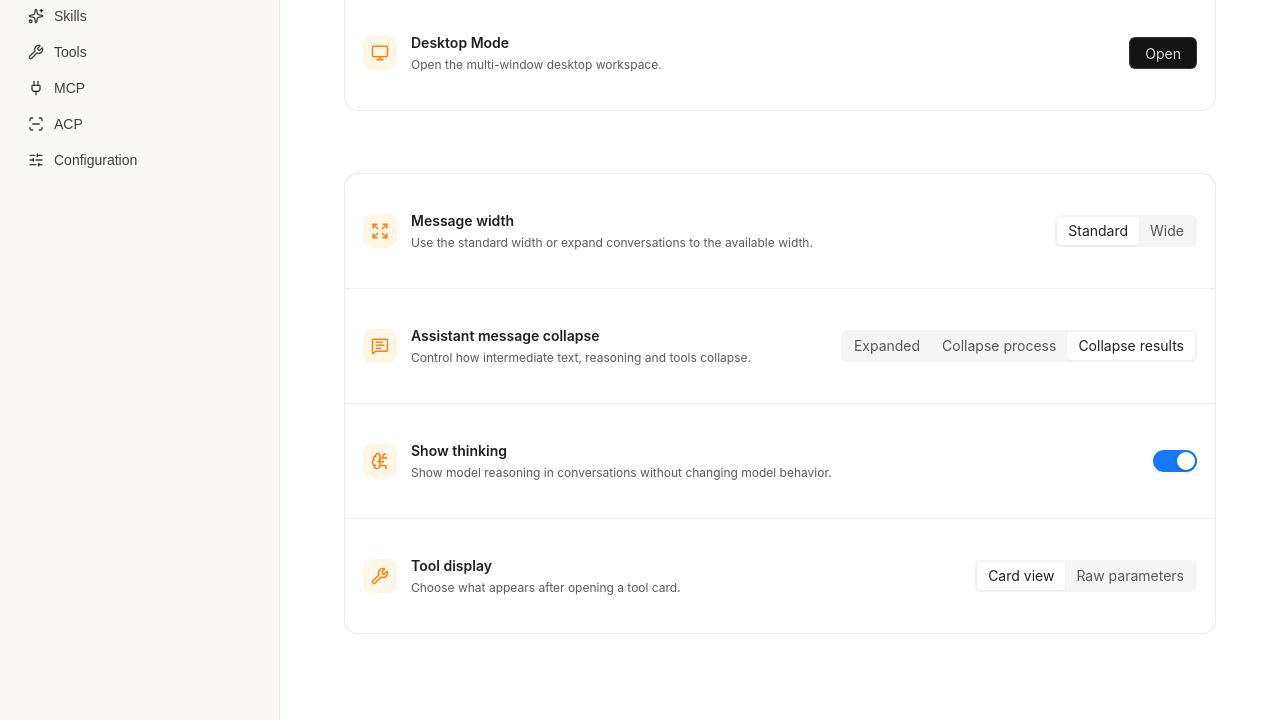
Test: SettingsCenter › expands agent pages and keeps their sidebar controls
This screenshot has width=1280, height=720.
(page scrolled)
Expected: the button "Skills" is shown, [16, 0, 261, 34]
Expected: the button "MCP" is shown, [16, 70, 261, 106]
Click the button "Tools" at (138, 52), box [16, 34, 261, 70]
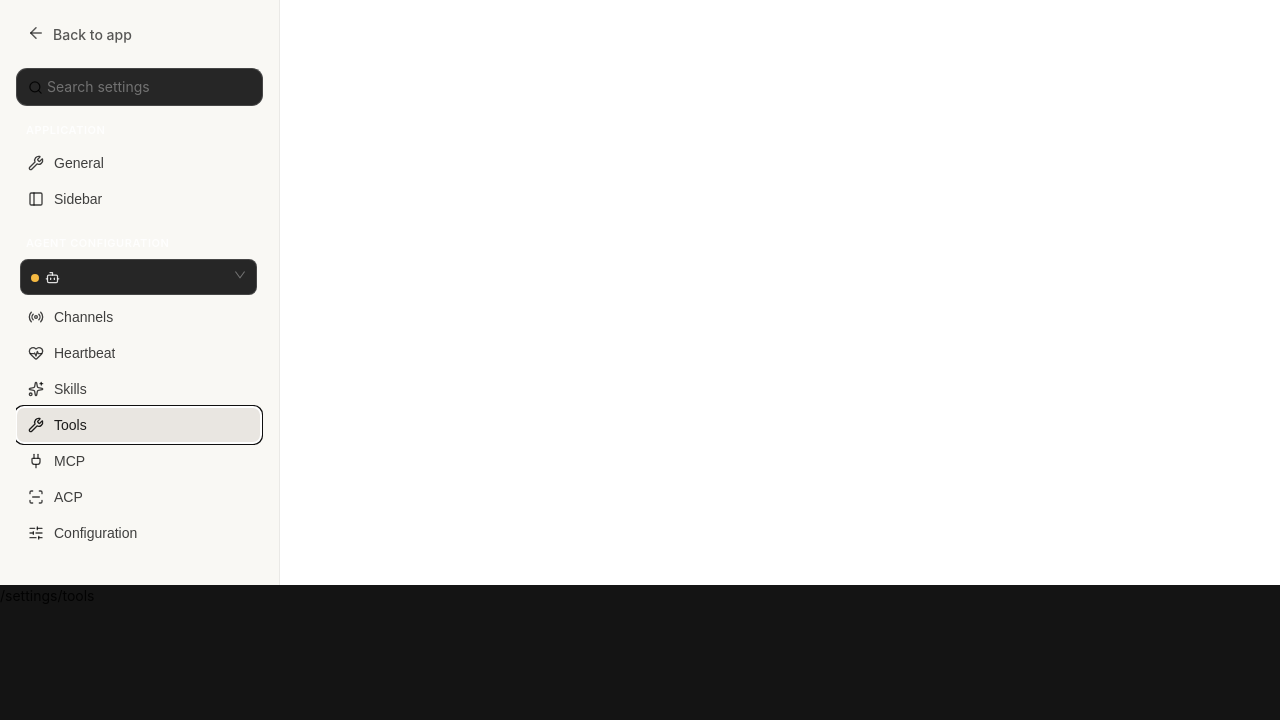
Expected: the text with test id "location" reads "/settings/tools", [0, 587, 94, 604]
Click the button "Sidebar" at (138, 199), box [16, 181, 261, 217]
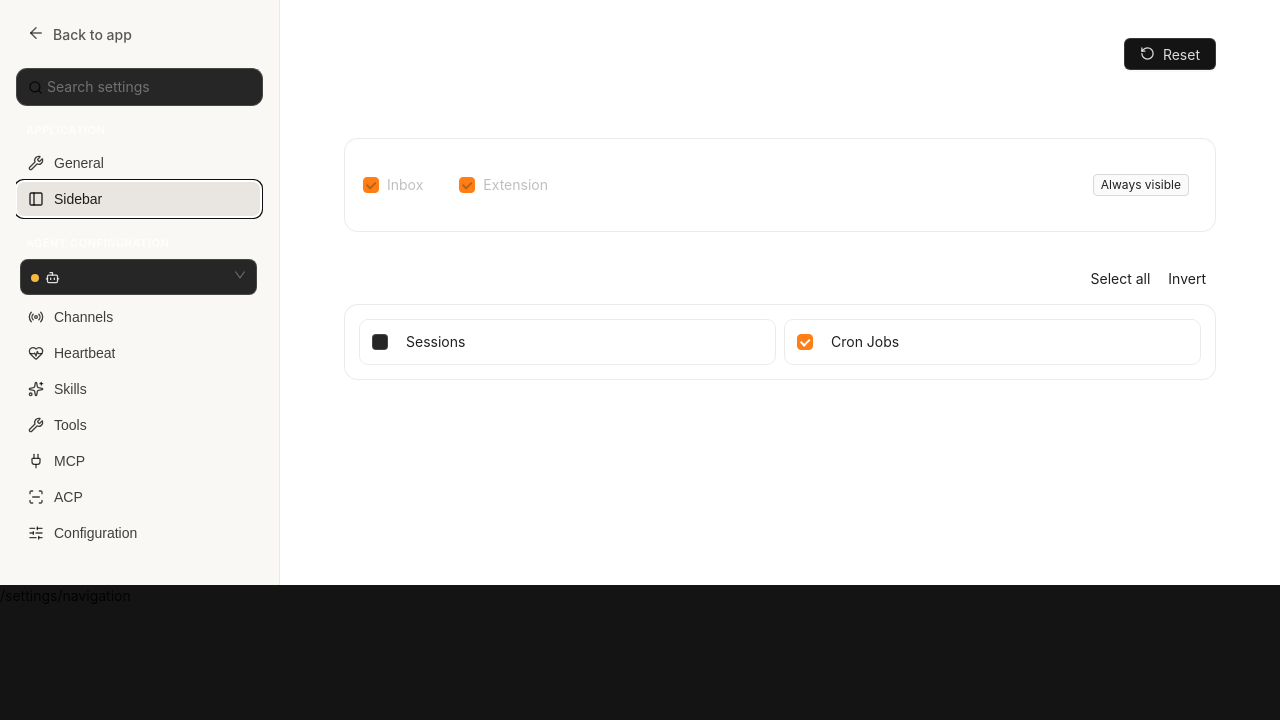
Expected: the checkbox labelled "Sessions" is shown, [359, 319, 776, 365]
Expected: the checkbox labelled "Cron Jobs" is shown, [784, 319, 1201, 365]
Expected: the checkbox labelled "Extension" is checked, [459, 174, 556, 196]
